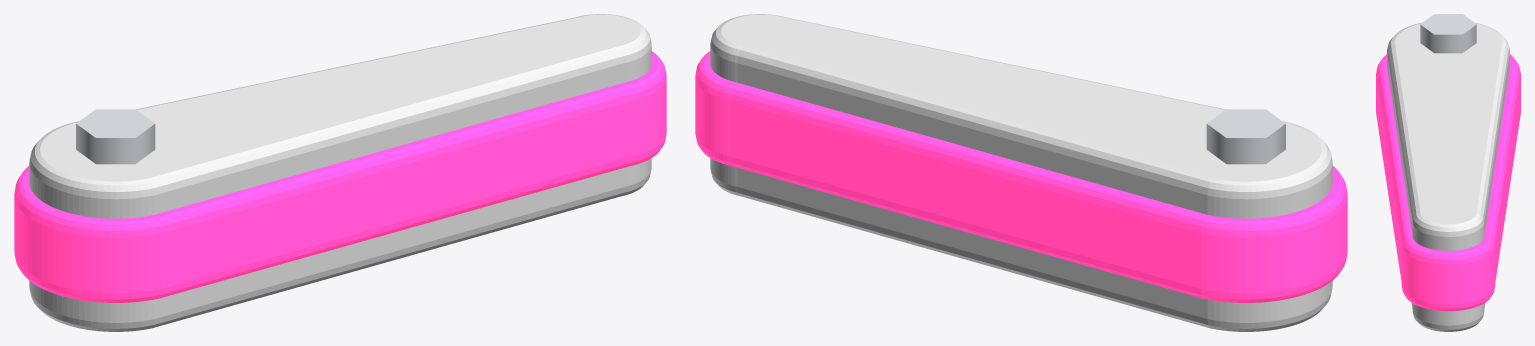
File: pp_flipper.glb
3 renders of one model, left to right at view 1: azimuth 30°, elevation 25°; view 2: azimuth 150°, elevation 25°; view 3: azimuth 270°, elevation 25°, orthographic. The views are drawn at different scales.
Parts seen in each view (by area): view 1: Bat, Rubber, Pivot; view 2: Bat, Rubber, Pivot; view 3: Bat, Rubber, Pivot.
Part boxes in pixels (box(x1,y1,x2,y2)): Bat: box(29, 14, 651, 331); Rubber: box(14, 51, 666, 302); Pivot: box(76, 109, 155, 164); Bat: box(710, 14, 1332, 331); Rubber: box(695, 51, 1347, 302); Pivot: box(1206, 109, 1285, 164); Bat: box(1387, 22, 1509, 331); Rubber: box(1376, 54, 1520, 311); Pivot: box(1420, 14, 1476, 53).
Size of the model in its own units: 0.1012 by 0.027 by 0.0282.
